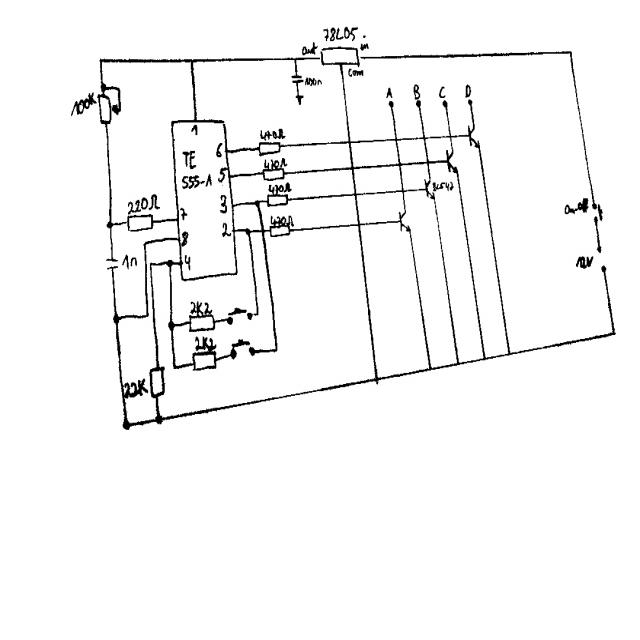capacitor: (106, 256, 119, 273), (291, 73, 304, 85)
crossover: (348, 164, 357, 172), (399, 187, 407, 195), (447, 133, 455, 141), (260, 228, 267, 235), (356, 221, 363, 228), (396, 161, 403, 168), (393, 137, 400, 144), (347, 139, 354, 146), (353, 192, 359, 199), (421, 135, 428, 141), (425, 160, 431, 166)
ground: (295, 93, 305, 106)
junction: (123, 420, 131, 431), (166, 258, 174, 269), (106, 220, 115, 229), (168, 321, 176, 331), (113, 314, 120, 325), (100, 82, 107, 93), (244, 227, 252, 236), (254, 199, 261, 208), (156, 415, 162, 424), (374, 376, 380, 384), (273, 346, 279, 353), (98, 58, 104, 65), (190, 58, 196, 65), (172, 363, 177, 371), (143, 239, 148, 247), (293, 56, 299, 62), (568, 50, 574, 56), (482, 356, 488, 362), (255, 310, 260, 317), (428, 367, 433, 373), (117, 86, 122, 92), (612, 330, 616, 337), (507, 350, 511, 357), (456, 360, 460, 367), (145, 311, 149, 318), (149, 262, 153, 268)
resistor: (97, 93, 121, 125), (149, 365, 167, 399), (125, 213, 155, 232), (190, 351, 218, 371), (187, 314, 216, 332), (258, 141, 281, 157), (267, 194, 289, 209), (262, 168, 285, 182), (269, 225, 291, 238)
switch: (230, 338, 256, 360), (227, 307, 255, 326), (591, 202, 603, 224)
terminal: (600, 265, 608, 274), (442, 100, 449, 110), (596, 245, 603, 254), (415, 100, 422, 108), (388, 100, 395, 108), (468, 99, 473, 107)
text: (181, 150, 212, 190), (127, 193, 161, 215), (71, 92, 97, 117), (323, 26, 359, 41), (124, 378, 148, 397), (564, 198, 589, 215), (194, 335, 218, 352), (189, 299, 214, 315), (260, 128, 286, 141), (270, 215, 294, 228), (268, 182, 292, 194), (264, 157, 287, 169), (575, 255, 594, 269), (431, 181, 455, 192), (301, 41, 318, 55), (122, 254, 137, 269), (220, 221, 232, 239), (217, 167, 228, 184), (219, 194, 228, 214), (305, 77, 322, 87), (184, 253, 193, 271), (360, 35, 370, 51), (180, 231, 189, 248), (412, 84, 421, 100), (348, 68, 364, 77), (190, 123, 200, 137), (216, 142, 224, 158), (180, 206, 187, 222), (439, 86, 447, 99), (385, 87, 393, 99), (465, 85, 472, 98)
transistor: (398, 209, 412, 233), (446, 150, 459, 174), (468, 124, 480, 149), (424, 178, 437, 200)
